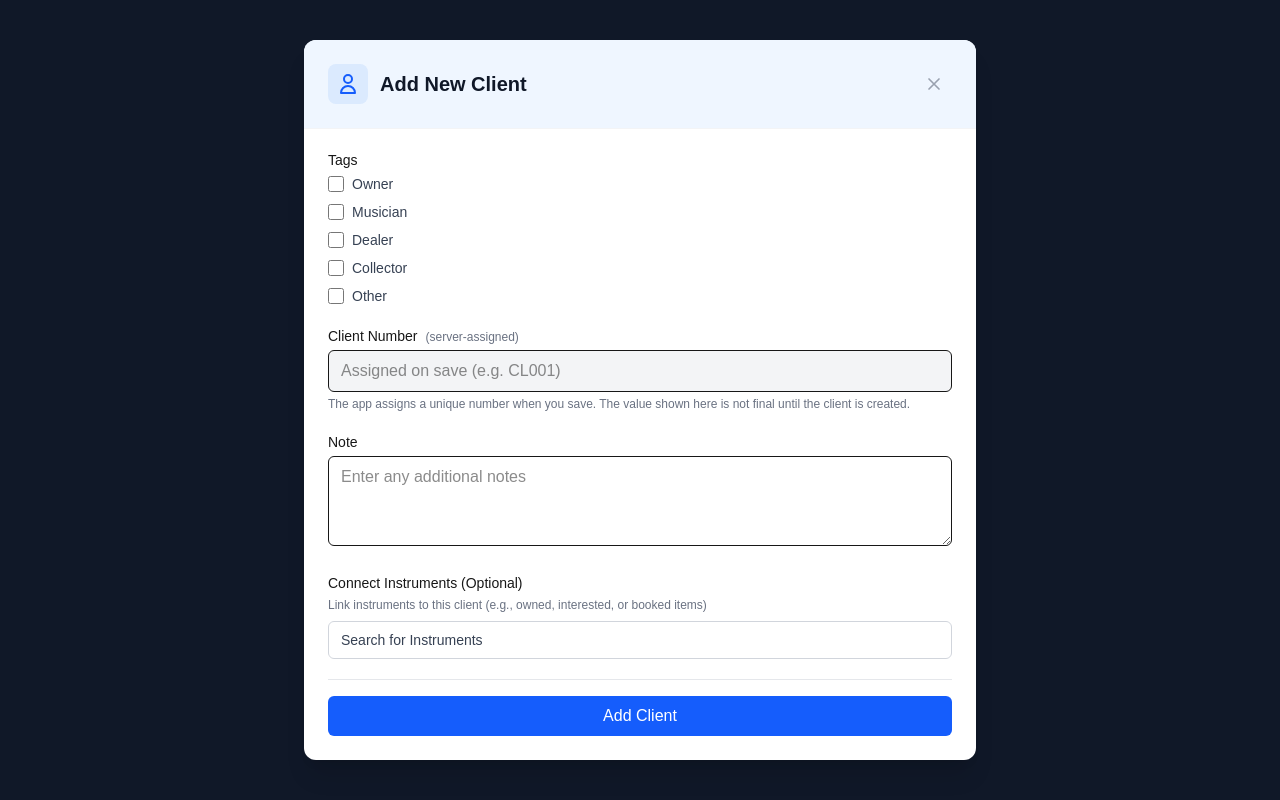
Test case: ClientForm - 상호작용/검증/로딩 › instrument links 없이 성공하면 client-only 성공 메시지를 보여준다
(page scrolled)
Click the button "Add Client". click: [640, 716]
box: [328, 696, 952, 736]
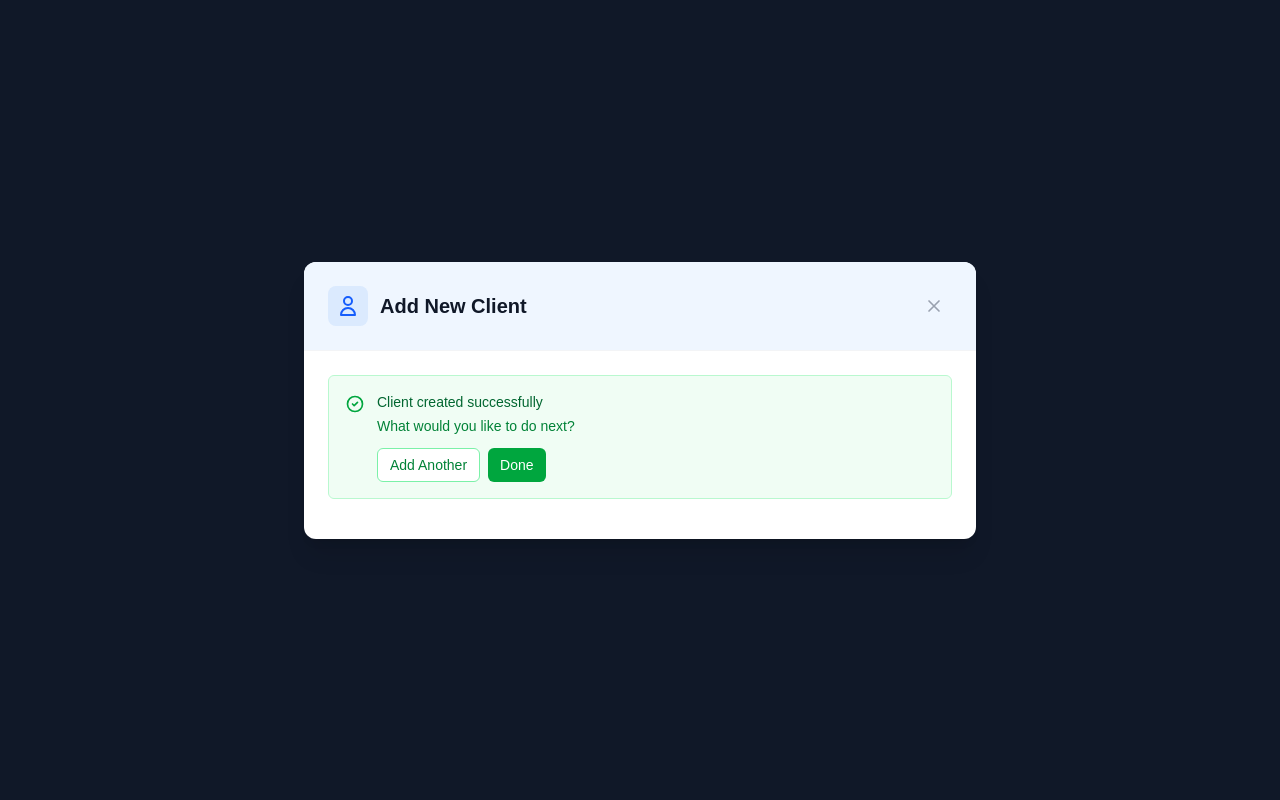
Expected: the heading "Client created successfully" is shown, [377, 394, 543, 410]
